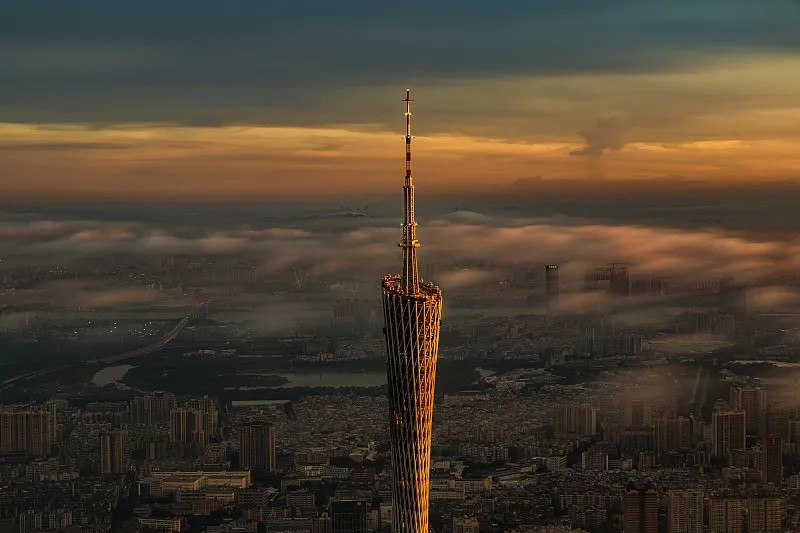Canton: (377, 82, 439, 533)
